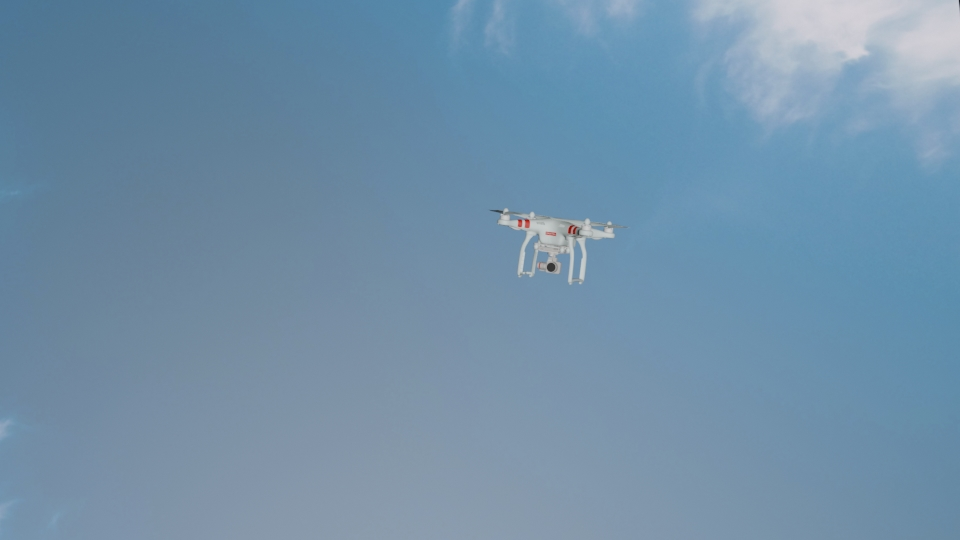drone: (487, 205, 625, 282)
